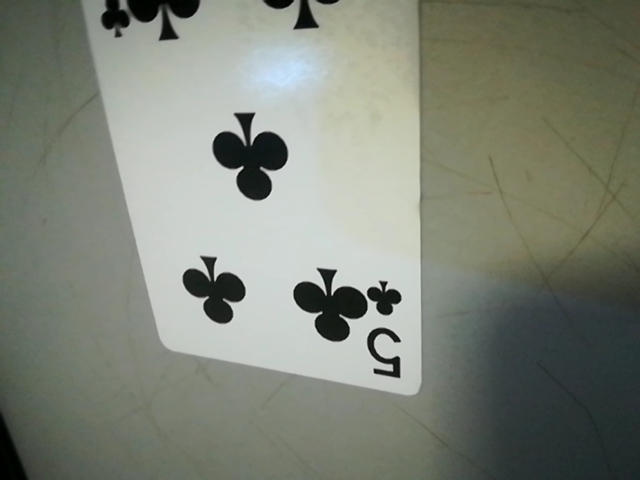mh 5: (365, 273, 419, 381)
